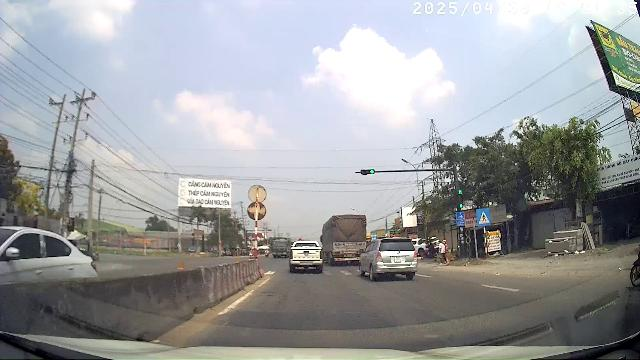423a-duong-nguoi-di-bo-sang-ngang-1: (477, 209, 491, 225)
